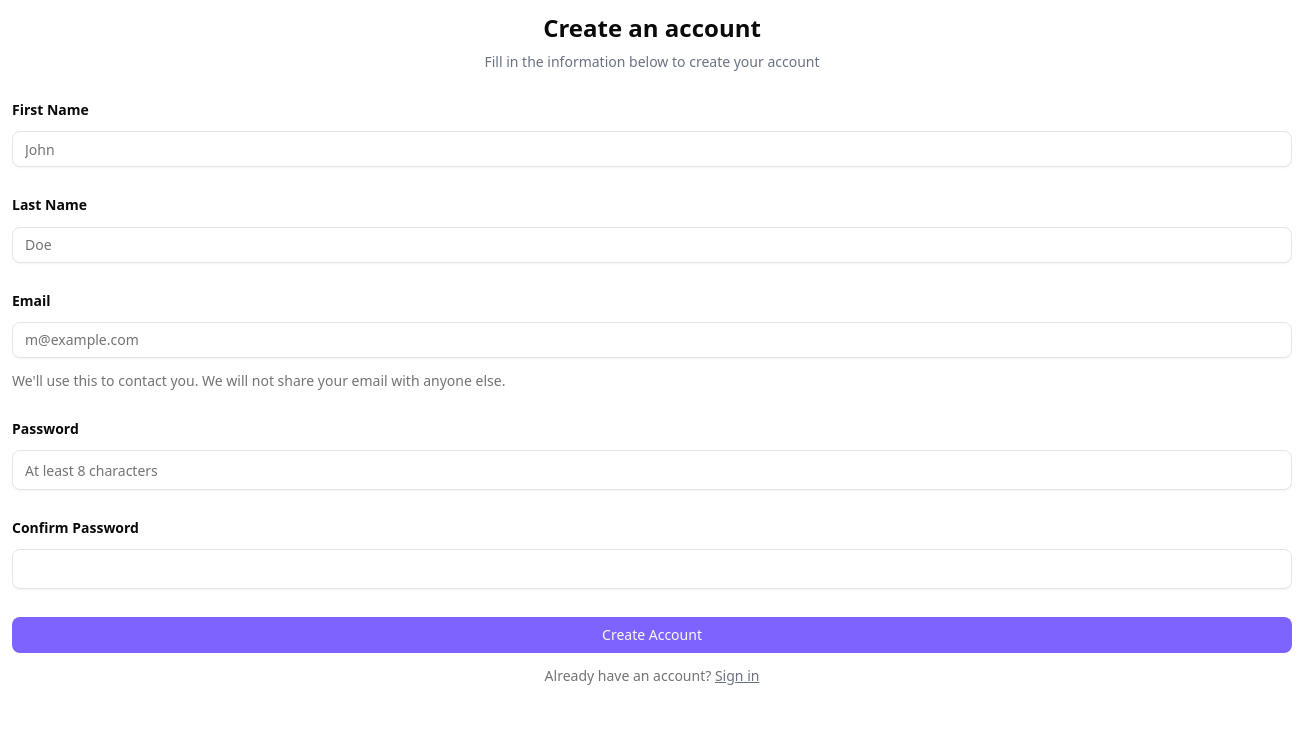
Test: SignupForm › Form Validation › shows live validation message when typing short password
The image size is (1304, 732).
In the password field labelled "Password": point(652, 470) [12,450,1292,490], type "short"
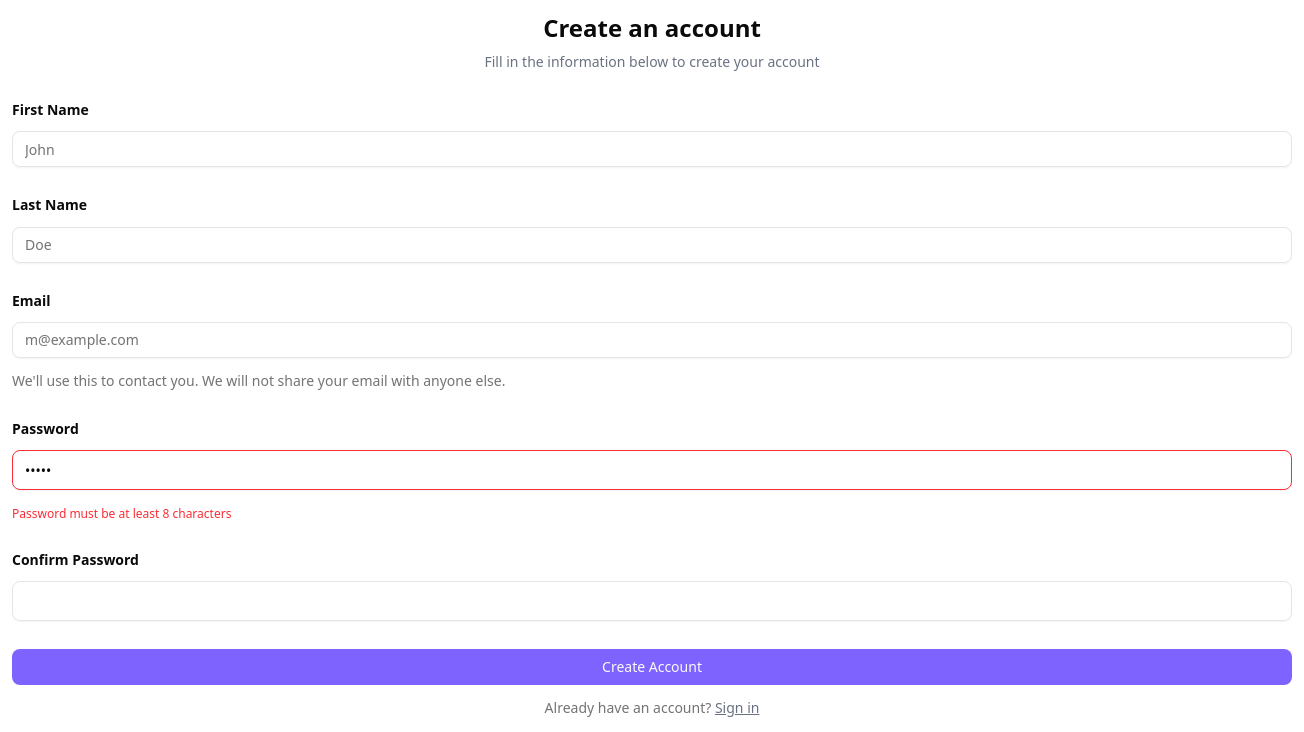
Now the text "Password must be at least 8 characters" is shown, box [12,505,231,522]
